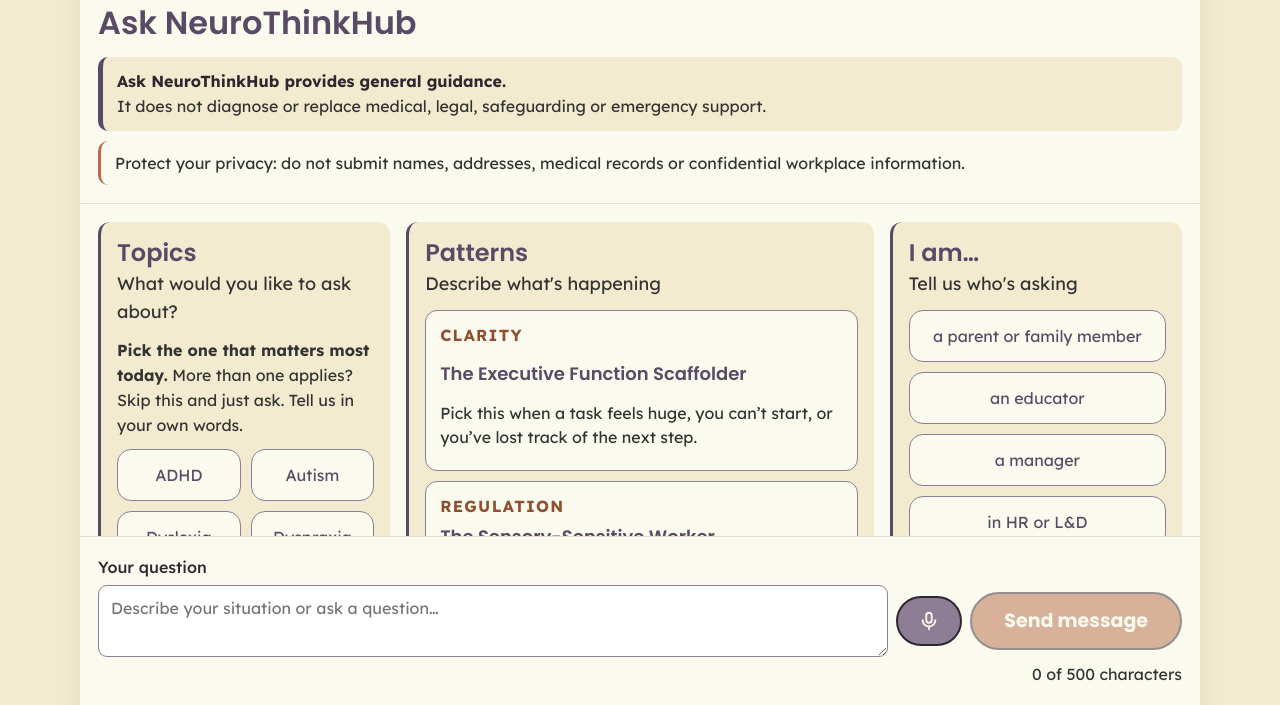
Test: Ask NeuroThinkHub pilot UI › sends no pattern key for /
Type "Hello" into the text box labelled "Your question" at coordinates (493, 621), box [98,586,888,657]
Then press Enter
(page scrolled)
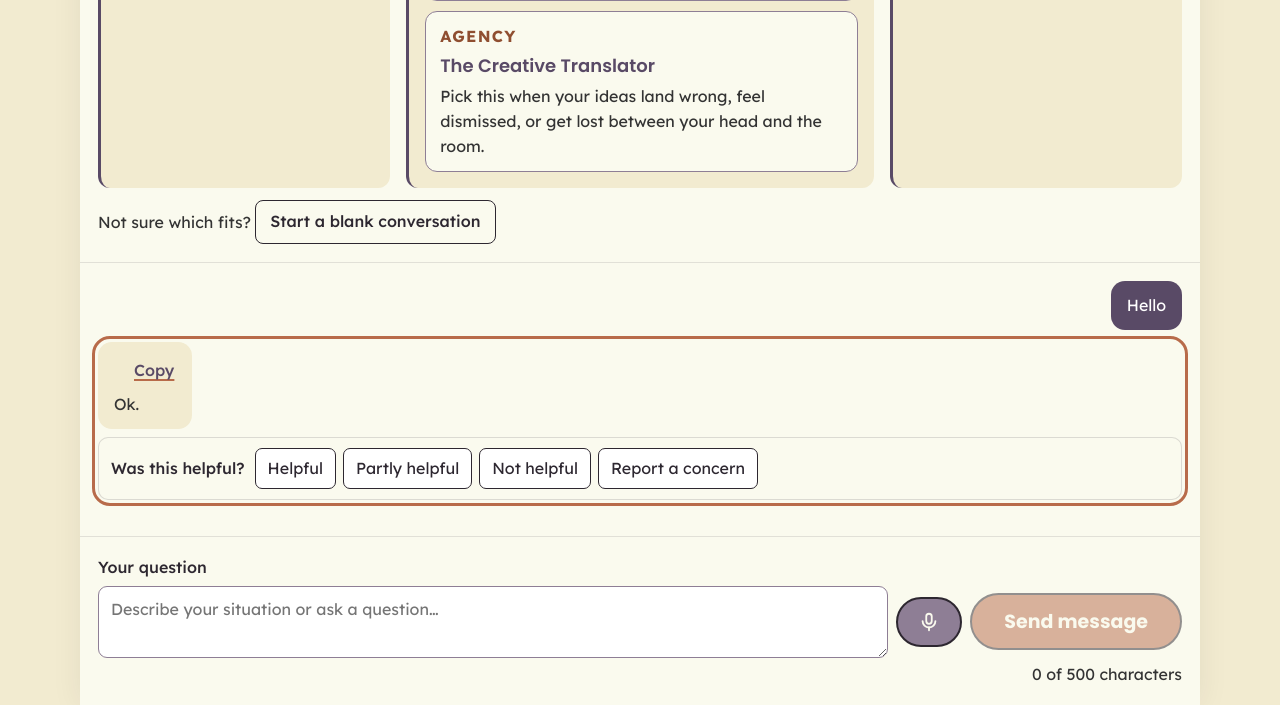
Check: the text "Ok." is shown, box [114,394,139,414]
